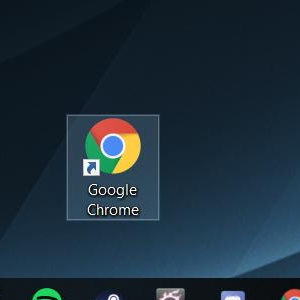chrome: (82, 118, 141, 177)
